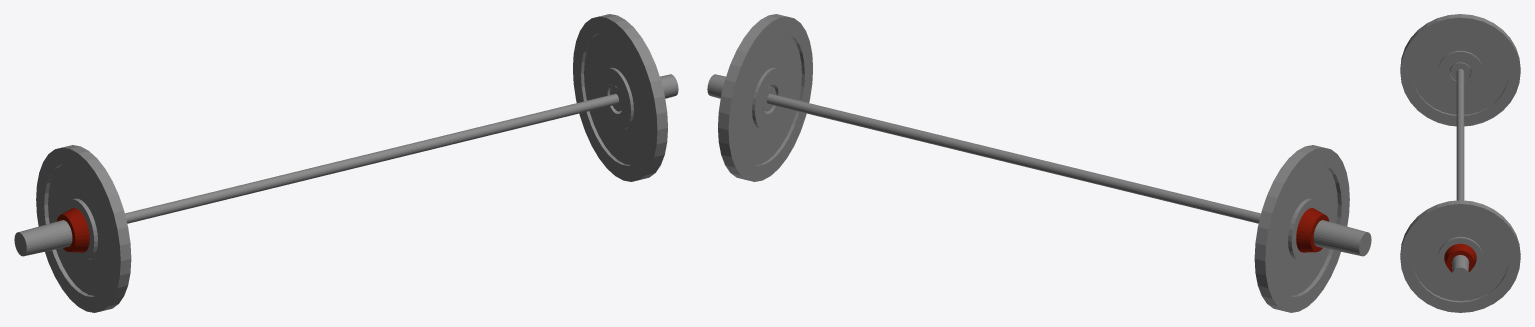
Rendered from barbell 04.12.2023.fbx.
3 views of the same model, side by side, from view 1: azimuth 30°, elevation 25°; view 2: azimuth 150°, elevation 25°; view 3: azimuth 270°, elevation 25° (orthographic). The views are drawn at different scales.
Visible parts, largest first — view 1: Circle, Cylinder, Cylinder.001; view 2: Circle, Cylinder, Cylinder.001; view 3: Circle, Cylinder, Cylinder.001.
Part boxes in pixels (box(x1,y1,x2,y2)): Circle: box(36, 14, 667, 312); Cylinder: box(14, 74, 678, 256); Cylinder.001: box(56, 208, 89, 252); Circle: box(718, 14, 1349, 312); Cylinder: box(707, 74, 1371, 256); Cylinder.001: box(1296, 208, 1329, 252); Circle: box(1400, 14, 1520, 312); Cylinder: box(1450, 62, 1470, 281); Cylinder.001: box(1444, 68, 1476, 272).
Bounding box in the file's own units: 178 × 40 × 40.
